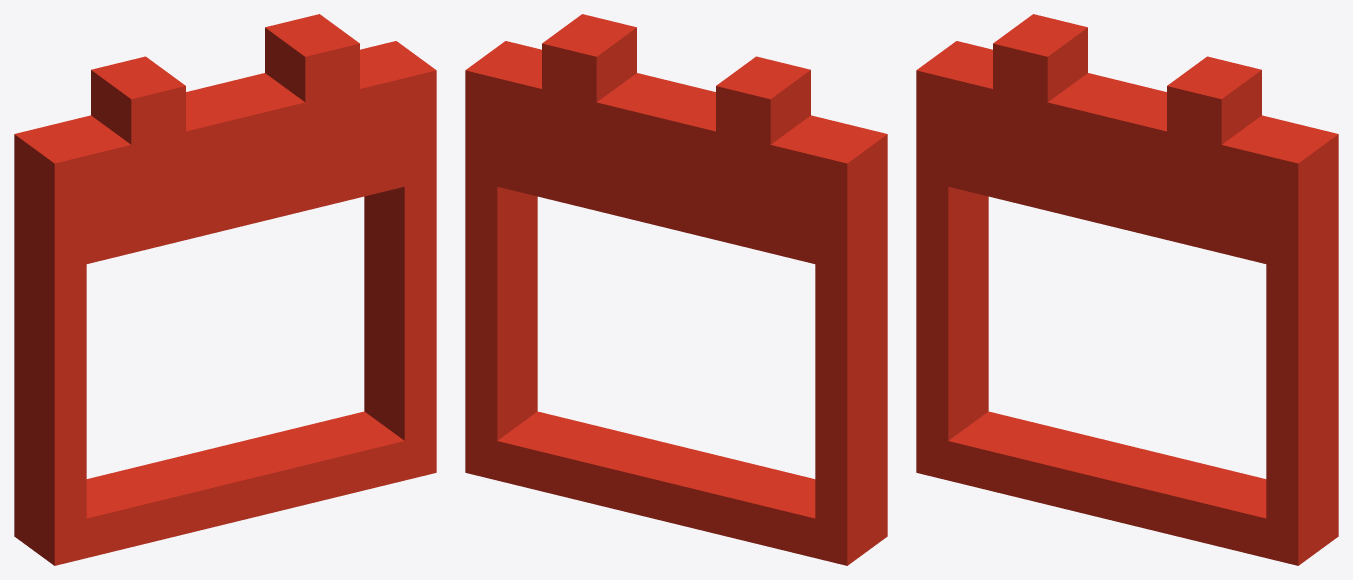
The model's file is Icon_Calendar_02.fbx.
3 views of the same model, side by side, from view 1: azimuth 30°, elevation 25°; view 2: azimuth 150°, elevation 25°; view 3: azimuth 330°, elevation 25° (orthographic).
Parts seen in each view (by area): view 1: Icon_Calendar_02; view 2: Icon_Calendar_02; view 3: Icon_Calendar_02.
Part boxes in pixels (left/top/right/bottom): Icon_Calendar_02: left=14, top=14, right=436, bottom=565; Icon_Calendar_02: left=465, top=14, right=887, bottom=565; Icon_Calendar_02: left=916, top=14, right=1338, bottom=565.
Bounding box in the file's own units: 65.96 × 73.9 × 12.06.
